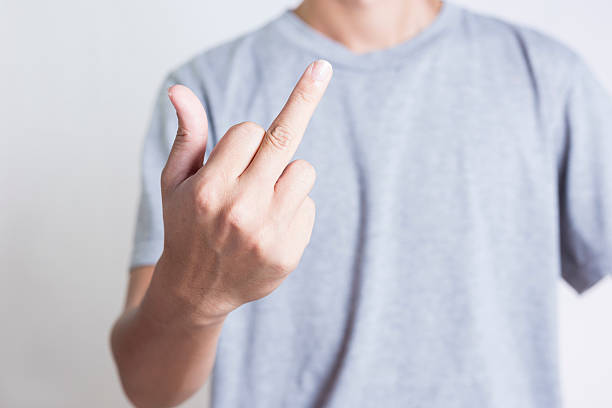insulting_gesture: (157, 59, 334, 303)
